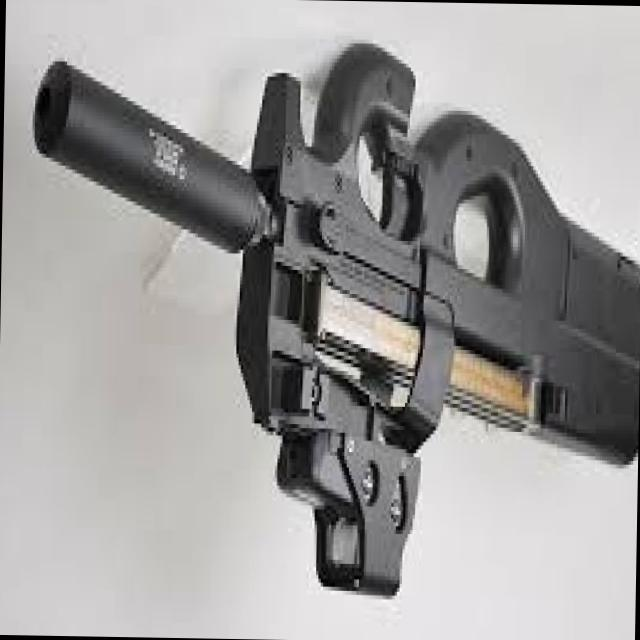Gun: (0, 0, 640, 618)
